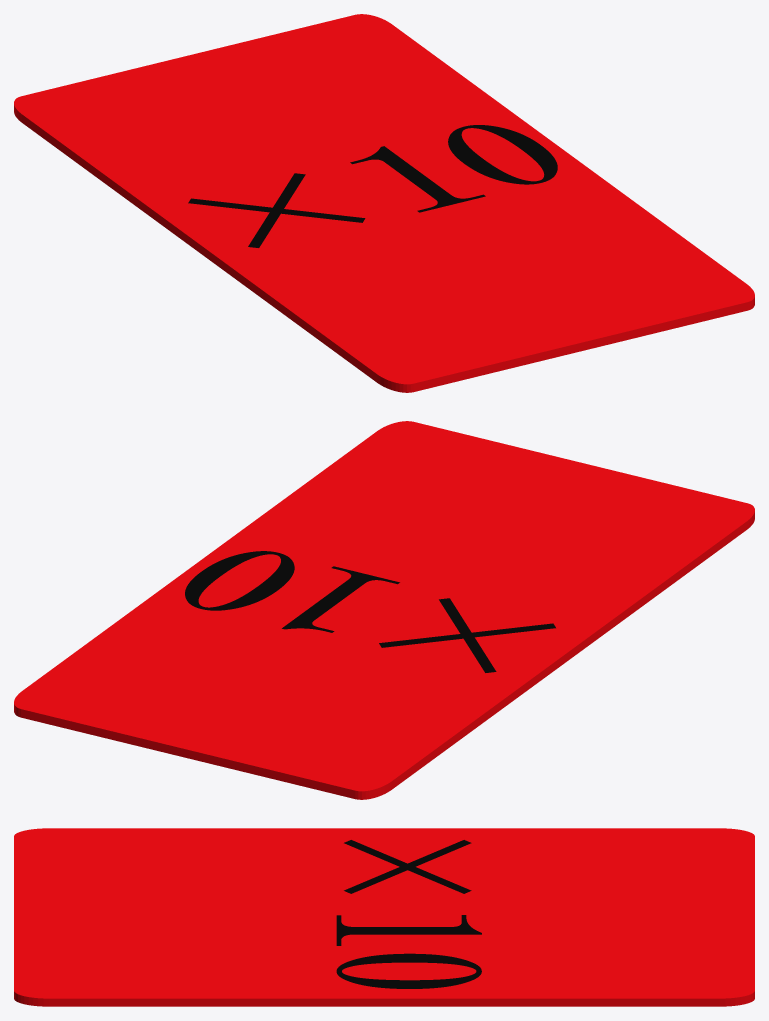
The model's file is Card_Ten.fbx.
The picture shows the model from 3 angles, top to bottom: view 1: azimuth 30°, elevation 25°; view 2: azimuth 150°, elevation 25°; view 3: azimuth 270°, elevation 25°; orthographic projection. The views are drawn at different scales.
Parts seen in each view (by area): view 1: Cube, Text.001; view 2: Cube, Text.001; view 3: Cube, Text.001.
Boxes of the visible parts, x1,y1,x2,y2 form: Cube: (14, 14, 754, 392); Text.001: (188, 125, 557, 247); Cube: (14, 421, 754, 799); Text.001: (185, 551, 555, 672); Cube: (14, 828, 754, 1006); Text.001: (336, 840, 481, 988).
Size of the model in its own units: 109 by 3.99 by 200.
